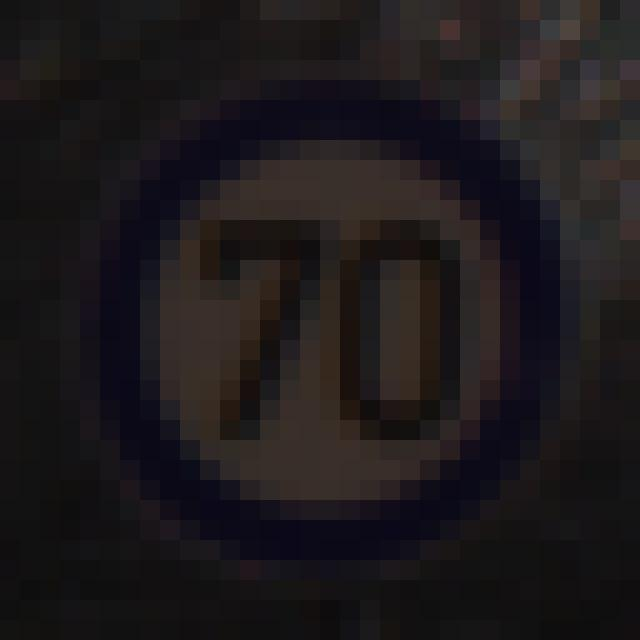SPEED LIMIT 70: (92, 121, 554, 551)
